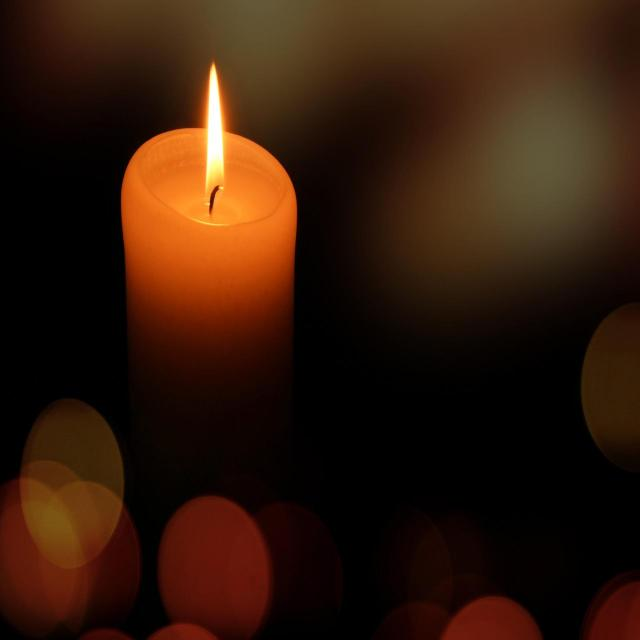Fire_Save: (120, 59, 298, 455)
